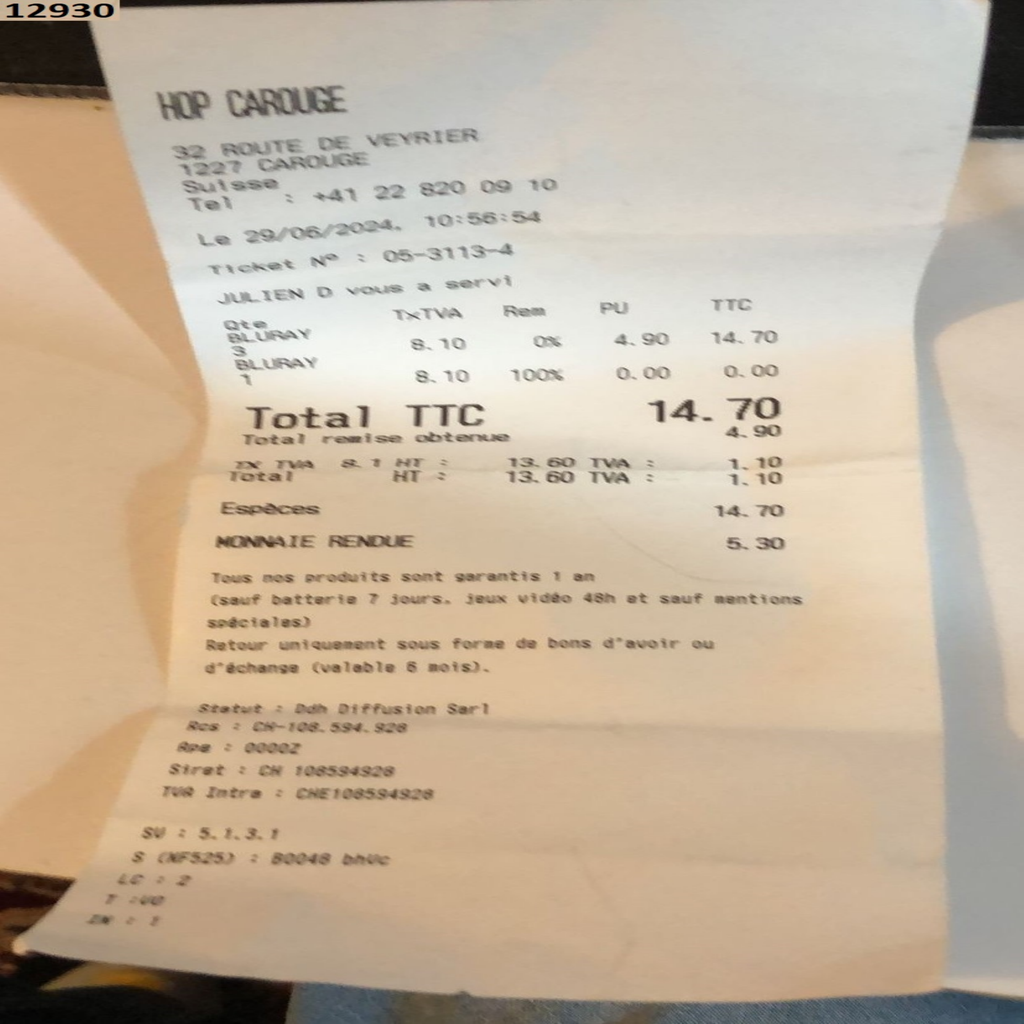recipt: (21, 0, 992, 1007)
